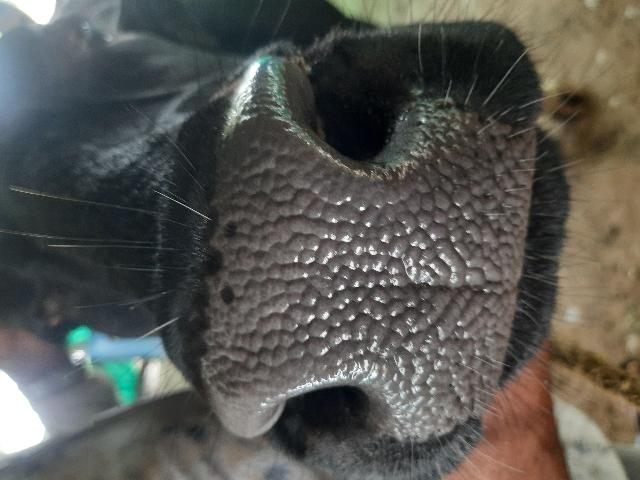Muzzle: (215, 136, 513, 404)
